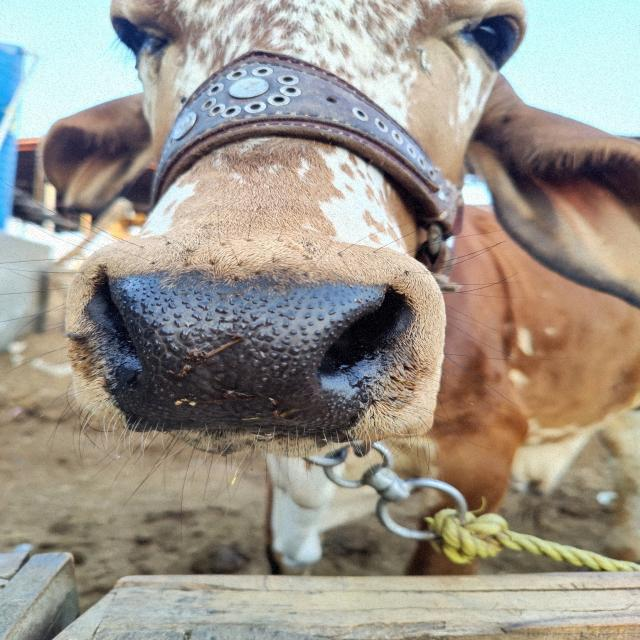muzzles: (84, 254, 408, 449)
